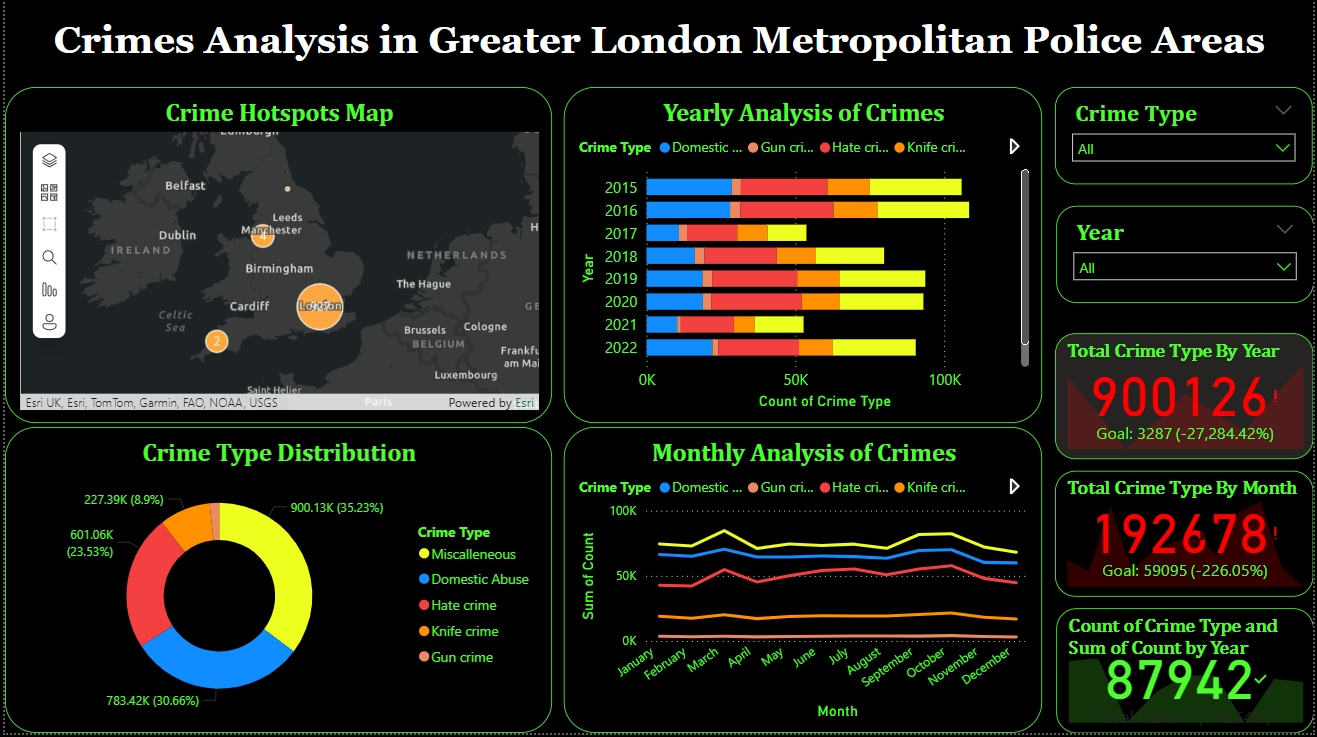

This screenshot's page, from the dashboard's own definition file:
{"tool":"powerbi","page":{"name":"Page 1","canvas":[1280,720],"ordinal":0},"visuals":[{"type":"barChart","title":"Yearly Analysis of Crimes","fields":{"Category":["CRIMES.MONTH_YEAR.Variation.Date Hierarchy.Year"],"Y":["CountNonNull(CRIMES.Crime Type)"],"Series":["CRIMES.Crime Type"]},"box":[546.4,88,468.2,328.8],"z":0},{"type":"lineChart","title":"Seasonal Trend Analysis of Crimes","fields":{"Category":["CRIMES.MONTH_YEAR.Variation.Date Hierarchy.Month"],"Y":["Sum(CRIMES.Count)"],"Series":["CRIMES.Crime Type"]},"box":[546.4,420.5,468.2,299.5],"z":1000},{"type":"textbox","title":"Crimes Analysis in Greater London Metropolitan Police Areas","box":[0,15.9,1280.3,72.1],"z":2000},{"type":"slicer","fields":{"Values":["CRIMES.MONTH_YEAR.Variation.Date Hierarchy.Year"]},"box":[1028.4,204.2,251.9,95.4],"z":3000},{"type":"esriVisual","title":"Crime Hotspots Map","fields":{"Location":["CRIMES.Borough_SNT"],"Size":["Sum(CRIMES.Count)"]},"box":[0,88,535.4,328.8],"z":4000},{"type":"kpi","title":"Total Crime Type By Month","fields":{"Indicator":["Sum(CRIMES.Count)"],"Goal":["CountNonNull(CRIMES.Crime Type)"],"TrendLine":["CRIMES.MONTH_YEAR.Variation.Date Hierarchy.Month"]},"box":[1027.2,463.5,253.1,123.5],"z":5000},{"type":"donutChart","title":"Crime Type Distribution","fields":{"Y":["Sum(CRIMES.Count)"],"Category":["CRIMES.Crime Type"]},"box":[0,421,535,299],"z":6000},{"type":"slicer","fields":{"Values":["CRIMES.Crime Type"]},"box":[1027.2,88,251.9,95.4],"z":7000},{"type":"kpi","title":"Total Crime Type By Year","fields":{"TrendLine":["CRIMES.Crime Type"],"Goal":["CountNonNull(CRIMES.MONTH_YEAR.Variation.Date Hierarchy.Year)"],"Indicator":["Sum(CRIMES.Count)"]},"box":[1027.2,328.9,253.1,123.5],"z":8000},{"type":"kpi","fields":{"Indicator":["CountNonNull(CRIMES.Crime Type)"],"Goal":["Sum(CRIMES.Count)"],"TrendLine":["CRIMES.MONTH_YEAR.Variation.Date Hierarchy.Year"]},"box":[1028.4,598,251.9,122.3],"z":9000}]}

Visuals, with their boxes in screenshot pixels (x1, y1, x2, y2), scaled from the page's 1280x720 canvas onto the 1317x737 screenshot:
"Yearly Analysis of Crimes" barChart: bbox=[562, 90, 1044, 427]
"Seasonal Trend Analysis of Crimes" lineChart: bbox=[562, 430, 1044, 736]
"Crimes Analysis in Greater London Metropolitan Police Areas" textbox: bbox=[0, 16, 1316, 90]
slicer - CRIMES.MONTH_YEAR.Variation.Date Hierarchy.Year: bbox=[1058, 209, 1316, 307]
"Crime Hotspots Map" esriVisual: bbox=[0, 90, 551, 427]
"Total Crime Type By Month" kpi: bbox=[1057, 474, 1316, 601]
"Crime Type Distribution" donutChart: bbox=[0, 431, 550, 736]
slicer - CRIMES.Crime Type: bbox=[1057, 90, 1316, 188]
"Total Crime Type By Year" kpi: bbox=[1057, 337, 1316, 463]
kpi - CountNonNull(CRIMES.Crime Type) x Sum(CRIMES.Count): bbox=[1058, 612, 1316, 736]
